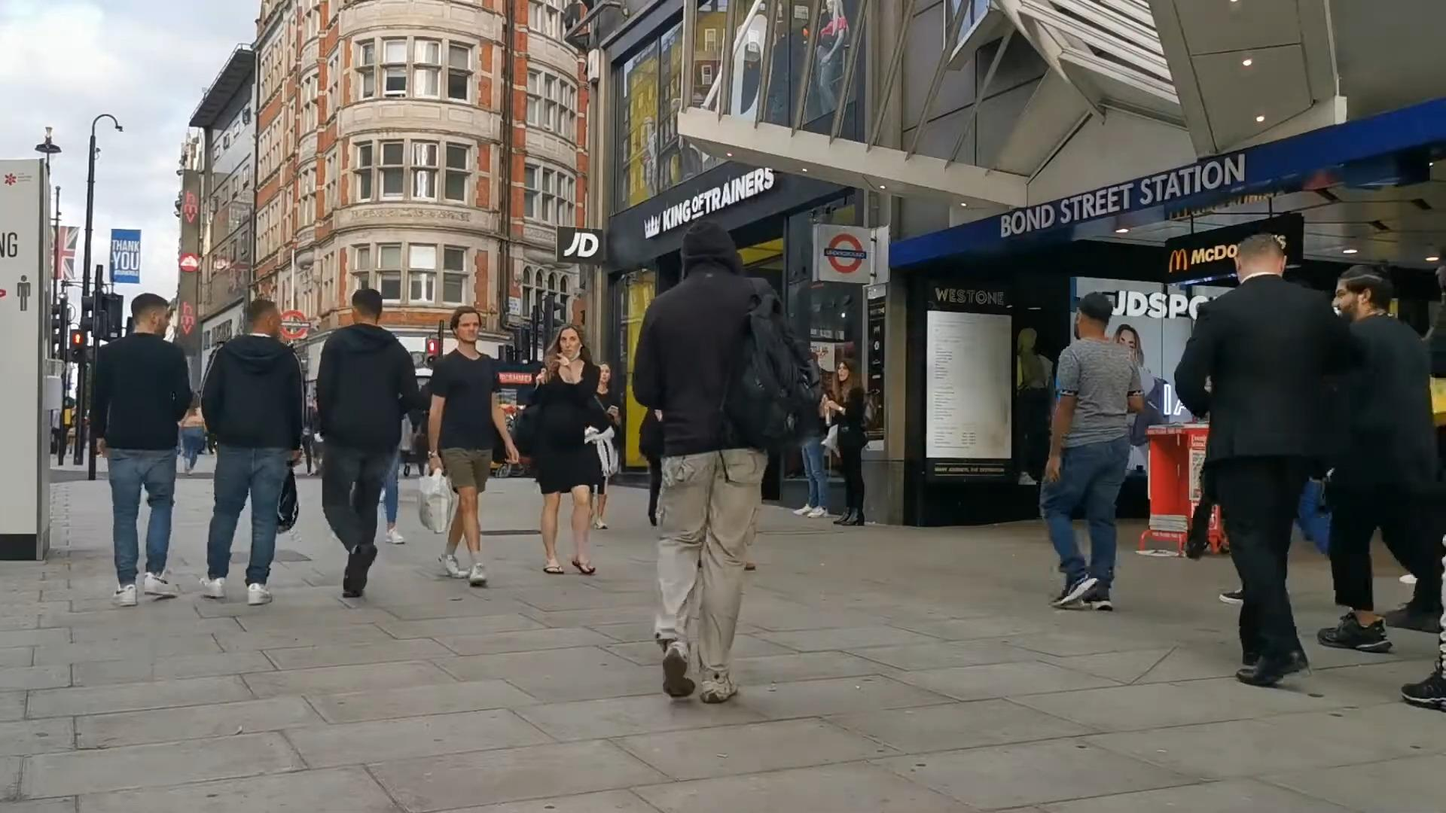no-helmet: (679, 221, 742, 281), (1332, 264, 1393, 321), (1235, 234, 1287, 285), (1073, 291, 1113, 340), (131, 293, 169, 339), (246, 300, 283, 339), (450, 306, 482, 344), (352, 288, 382, 326), (555, 323, 585, 359), (832, 357, 859, 383), (596, 361, 611, 383)
